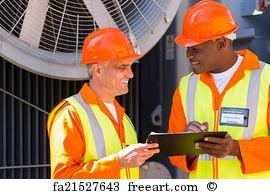helmet: (171, 0, 244, 51), (78, 26, 146, 71)
person: (161, 0, 270, 176), (42, 25, 165, 178)
vest: (178, 64, 270, 178), (44, 92, 150, 177)
